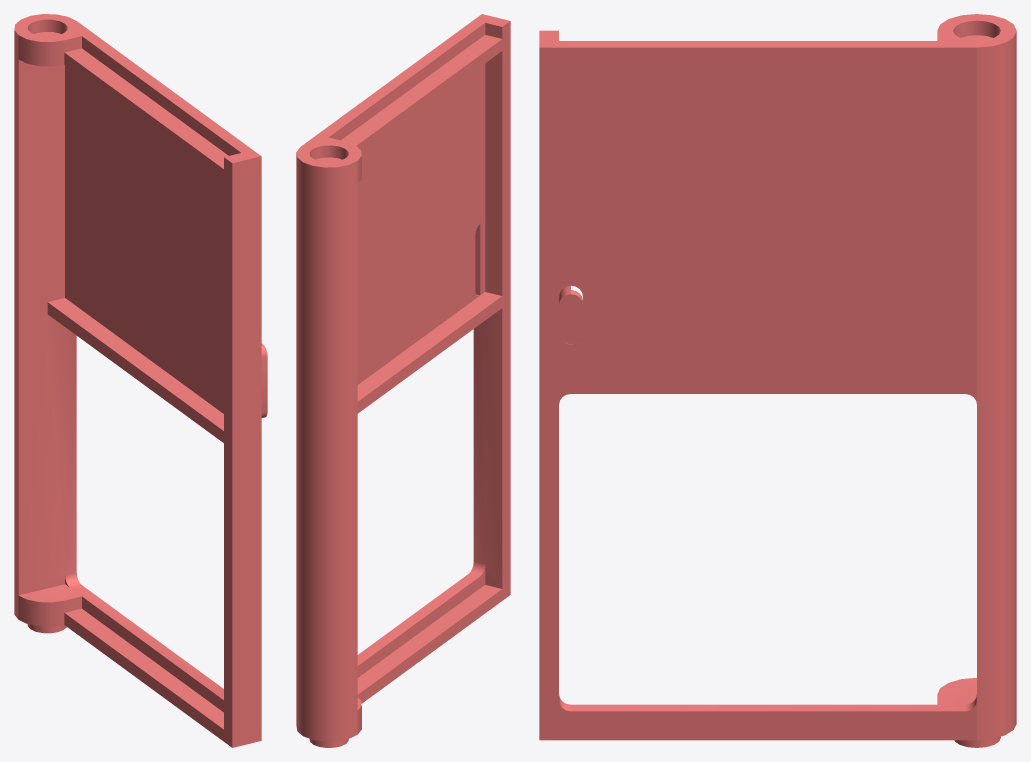
3 renders of one model, left to right at view 1: azimuth 30°, elevation 25°; view 2: azimuth 150°, elevation 25°; view 3: azimuth 270°, elevation 25°, orthographic. The views are drawn at different scales.
Visible parts, largest first — view 1: LDrawPart; view 2: LDrawPart; view 3: LDrawPart.
Part boxes in pixels (x1,y1,x2,y2): LDrawPart: (14, 14, 267, 747); LDrawPart: (296, 14, 510, 747); LDrawPart: (539, 14, 1016, 747).
Bounding box in the file's own units: 0.175 × 1.37 × 0.84.
